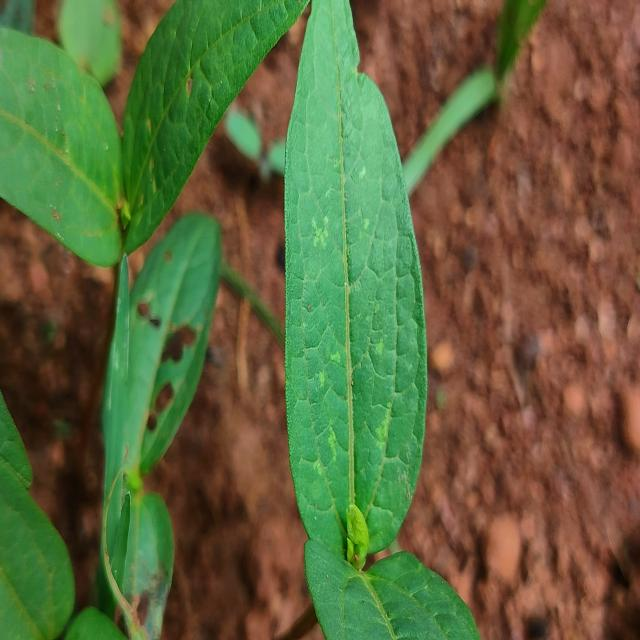Black gram_healthy: (284, 0, 427, 556), (120, 0, 305, 247), (2, 24, 126, 278)
